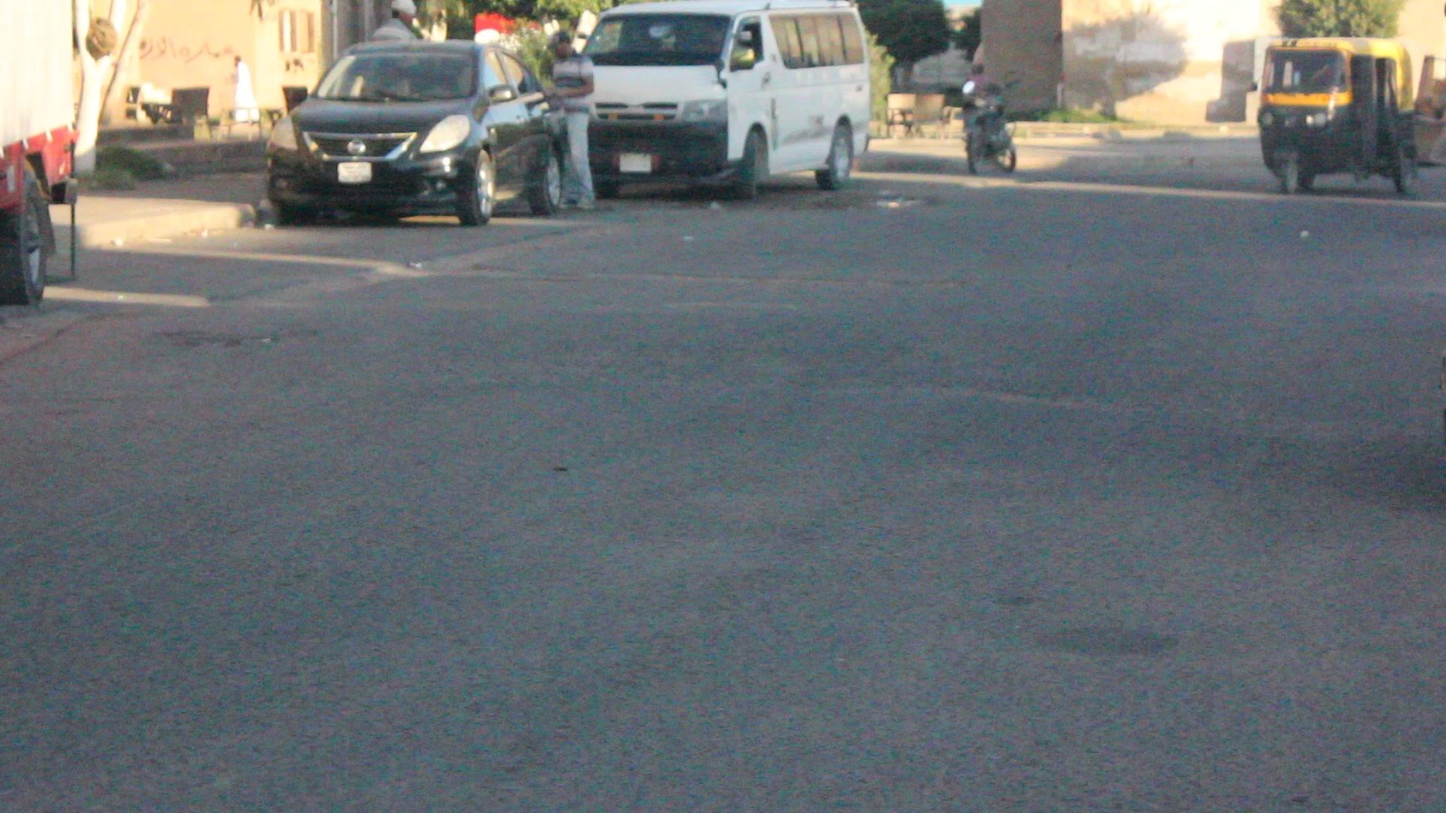Pothole: (154, 312, 297, 371)
